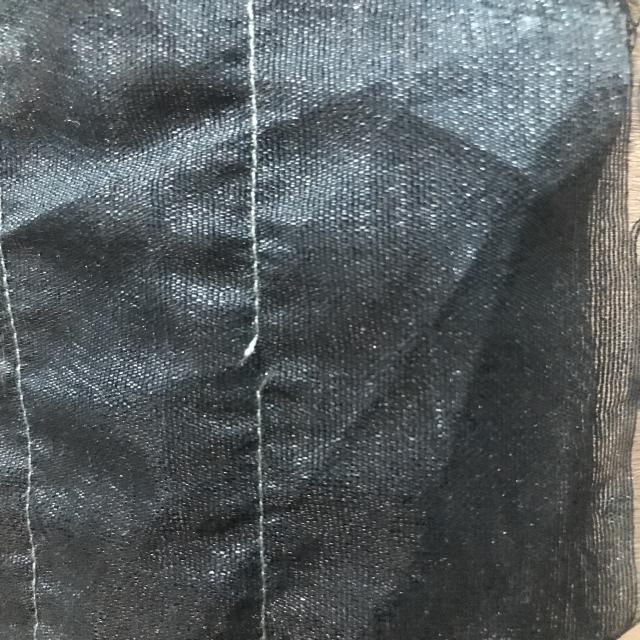broken: (224, 314, 288, 414)
good: (244, 457, 276, 569)
